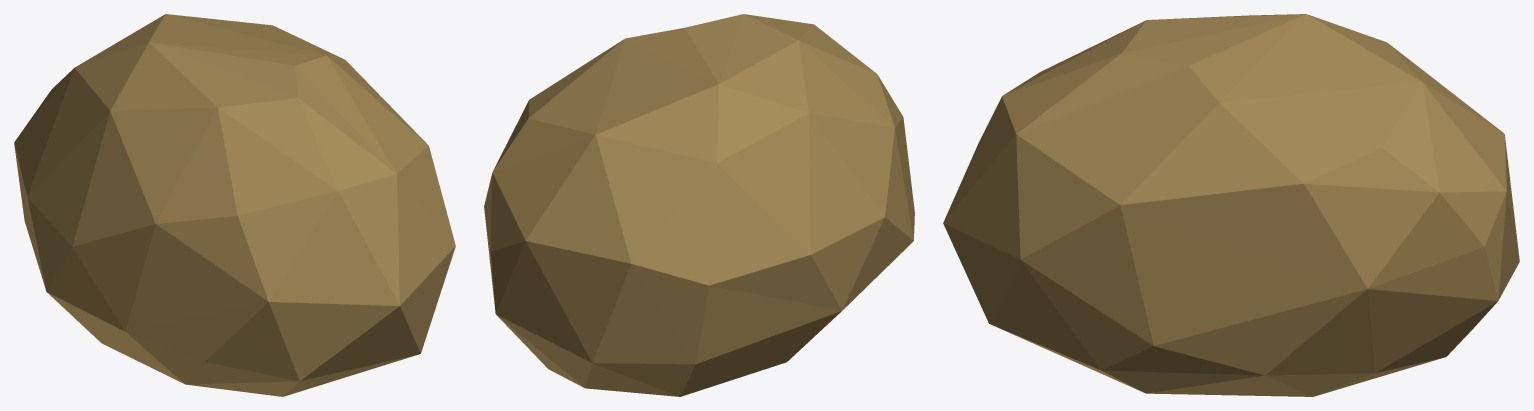
Rendered from ziemniak.fbx.
3 renders of one model, left to right at view 1: azimuth 30°, elevation 25°; view 2: azimuth 150°, elevation 25°; view 3: azimuth 270°, elevation 25°, orthographic. The views are drawn at different scales.
Parts seen in each view (by area): view 1: Sphere.001; view 2: Sphere.001; view 3: Sphere.001.
Boxes of the visible parts, <box> form: Sphere.001: <box>14,14,455,396</box>; Sphere.001: <box>484,14,914,396</box>; Sphere.001: <box>943,14,1519,396</box>.
Bounding box in the file's own units: 7.46 × 6.5 × 10.43.
